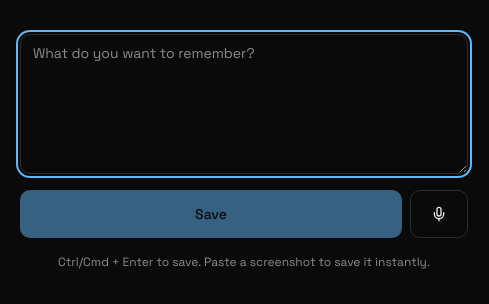
Test: /quick › a failed save keeps the text and says so
In the text box labelled "What do you want to remember?": (244,104) 20,34 -> 468,174, type "important note"
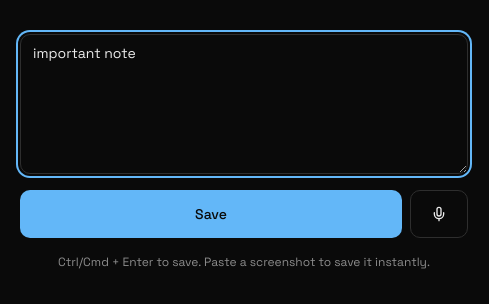
Click the button "Save": (211,214) 20,190 -> 402,238
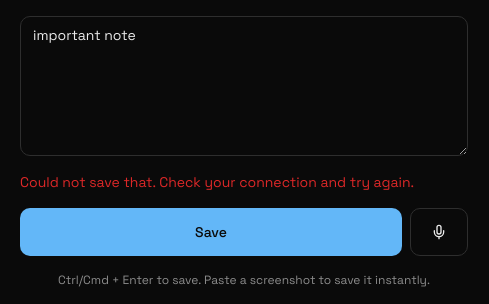
Expected: the message "Could not save that. Check your connection and try again." is shown, 20,172 -> 468,192
